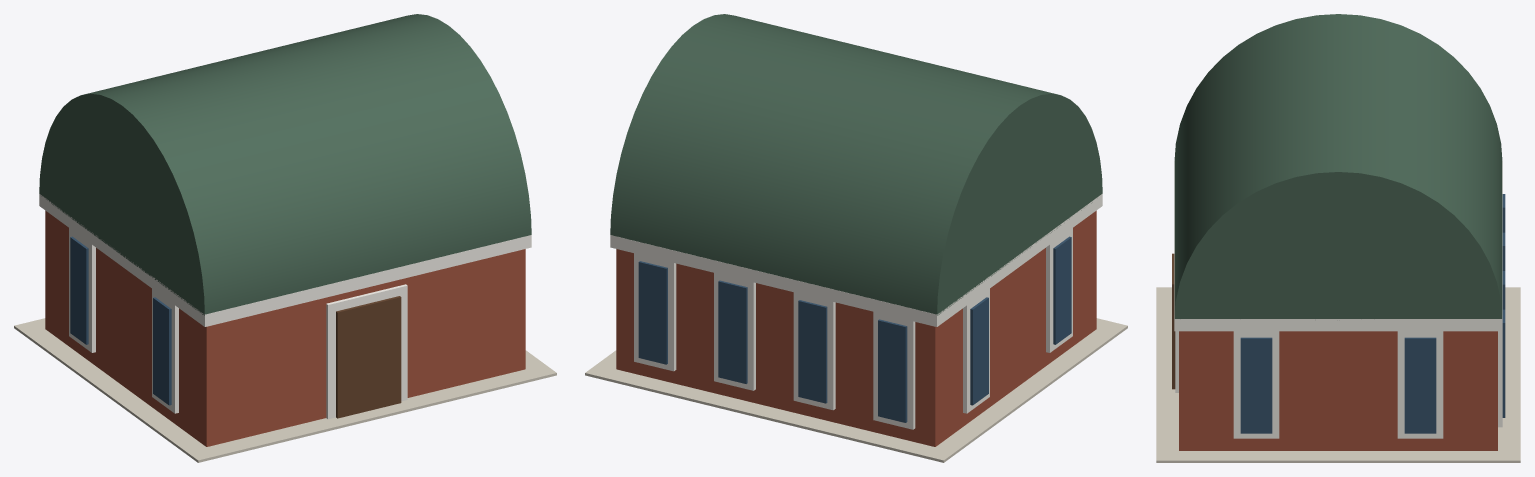
File: annex-lectureHall.glb
3 renders of one model, left to right at view 1: azimuth 30°, elevation 25°; view 2: azimuth 150°, elevation 25°; view 3: azimuth 270°, elevation 25°, orthographic.
Parts seen in each view (by area): view 1: roof, building, ground, door, string_course, window_glass (×2), door_frame, window_frame (×2); view 2: roof, building, window_glass (×6), window_frame (×6), ground, string_course; view 3: roof, building, ground, window_glass (×3), window_frame (×3), string_course, door.
Part boxes in pixels (bbox=[...]): roof: bbox=[39, 14, 531, 315]; building: bbox=[45, 210, 525, 446]; ground: bbox=[14, 318, 556, 462]; door: bbox=[336, 296, 401, 418]; string_course: bbox=[39, 194, 531, 326]; window_glass (×2): bbox=[70, 236, 171, 405]; door_frame: bbox=[326, 284, 407, 419]; window_frame (×2): bbox=[69, 228, 178, 413]; roof: bbox=[610, 14, 1102, 315]; building: bbox=[616, 210, 1096, 446]; window_glass (×6): bbox=[638, 236, 1071, 422]; window_frame (×6): bbox=[634, 228, 1072, 429]; ground: bbox=[585, 318, 1127, 462]; string_course: bbox=[610, 194, 1102, 326]; roof: bbox=[1174, 14, 1502, 318]; building: bbox=[1179, 331, 1497, 450]; ground: bbox=[1156, 287, 1520, 462]; window_glass (×3): bbox=[1240, 309, 1505, 433]; window_frame (×3): bbox=[1233, 331, 1502, 438]; string_course: bbox=[1174, 161, 1502, 331]; door: bbox=[1172, 253, 1175, 389].
Bounding box in the file's own units: 9 × 6.86 × 8.
